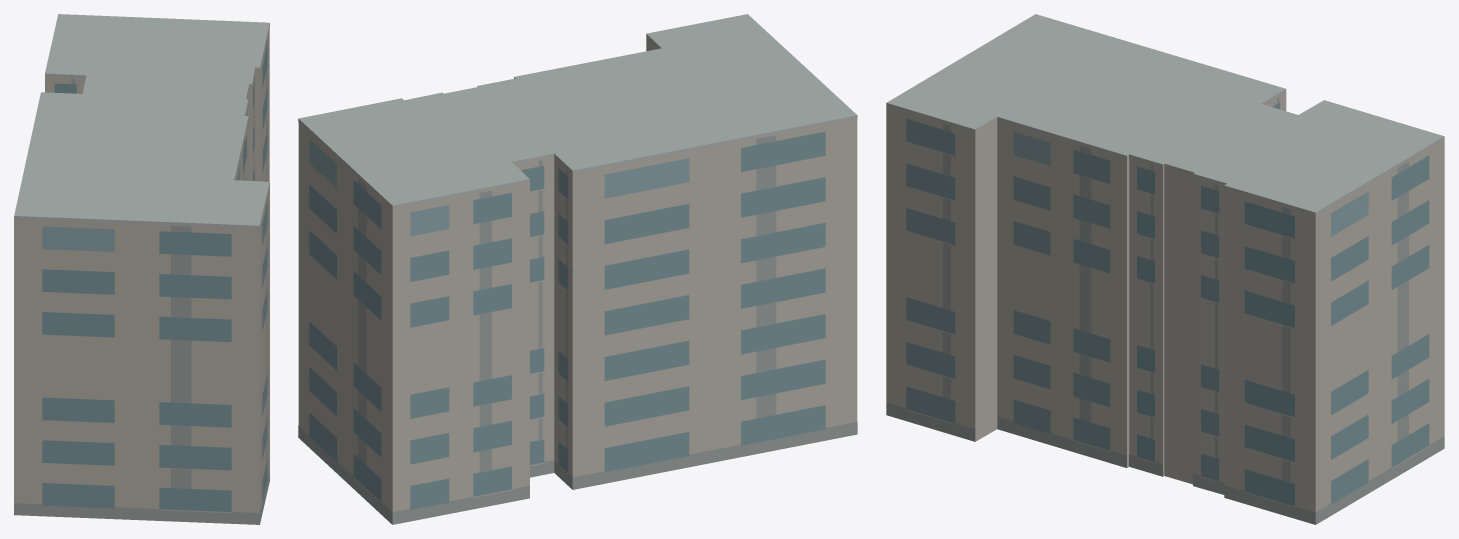
The model's file is survey-upis-32550649.glb.
3 views of the same model, side by side, from view 1: azimuth 30°, elevation 25°; view 2: azimuth 150°, elevation 25°; view 3: azimuth 270°, elevation 25° (orthographic). The views are drawn at different scales.
Parts seen in each view (by area): view 1: survey-upis-32550649.tmp; view 2: survey-upis-32550649.tmp; view 3: survey-upis-32550649.tmp.
Part boxes in pixels (left/top/right/bottom): survey-upis-32550649.tmp: left=14, top=14, right=269, bottom=524; survey-upis-32550649.tmp: left=298, top=14, right=857, bottom=524; survey-upis-32550649.tmp: left=886, top=14, right=1444, bottom=524.
Size of the model in its own units: 26.18 by 19.2 by 31.1.
